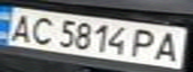1: (90, 21, 112, 54)
4: (106, 24, 133, 56)
5: (54, 17, 78, 50)
8: (72, 20, 93, 52)
A: (151, 29, 187, 63), (3, 10, 39, 43)
C: (24, 13, 57, 46)
P: (127, 26, 163, 60)
